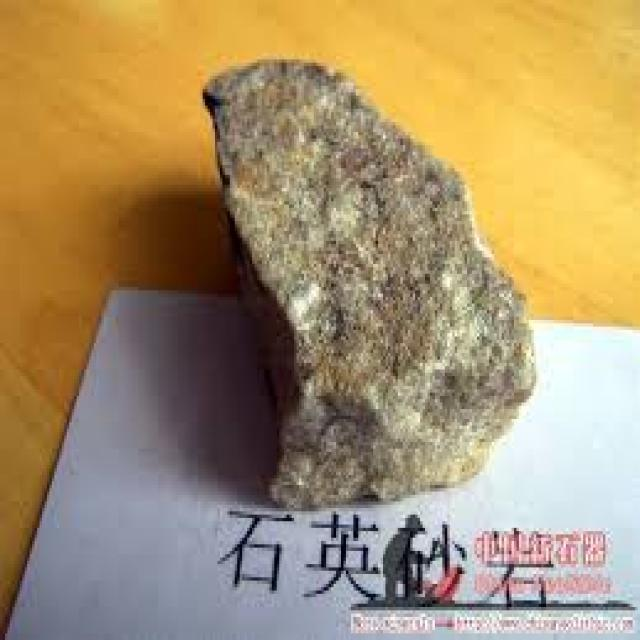Metamorphic: (166, 49, 528, 492)
